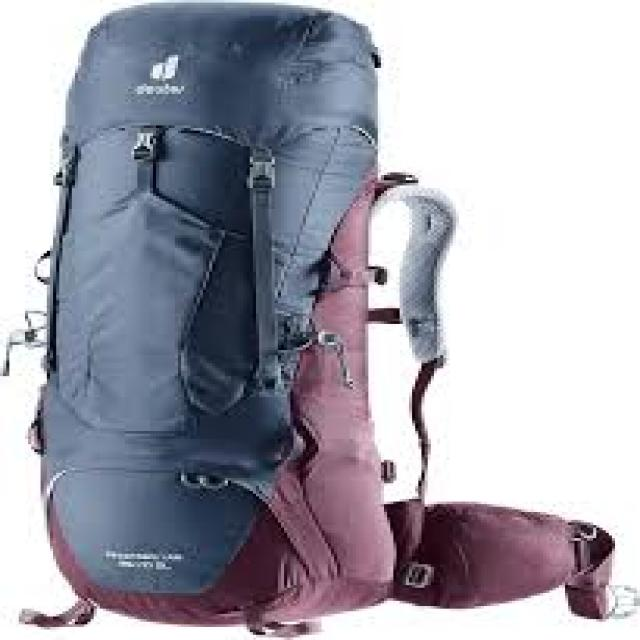backpack: (0, 0, 621, 635)
